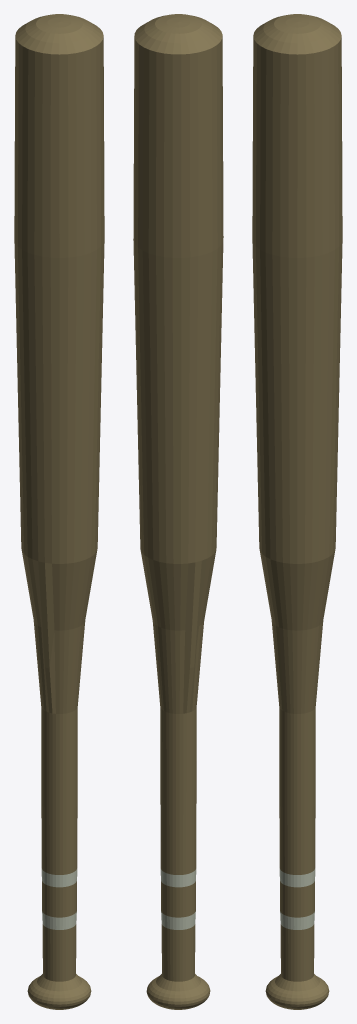
File: Baseball Anim 1.fbx
3 renders of one model, left to right at view 1: azimuth 90°, elevation 25°; view 2: azimuth 150°, elevation 25°; view 3: azimuth 270°, elevation 25°, orthographic.
Parts seen in each view (by area): view 1: Sphere; view 2: Sphere; view 3: Sphere.
Part boxes in pixels (left/top/right/bottom): Sphere: left=14, top=14, right=104, bottom=1009; Sphere: left=133, top=14, right=223, bottom=1009; Sphere: left=252, top=14, right=342, bottom=1009.
Bounding box in the file's own units: 0.3517 × 4.23 × 0.3517.
